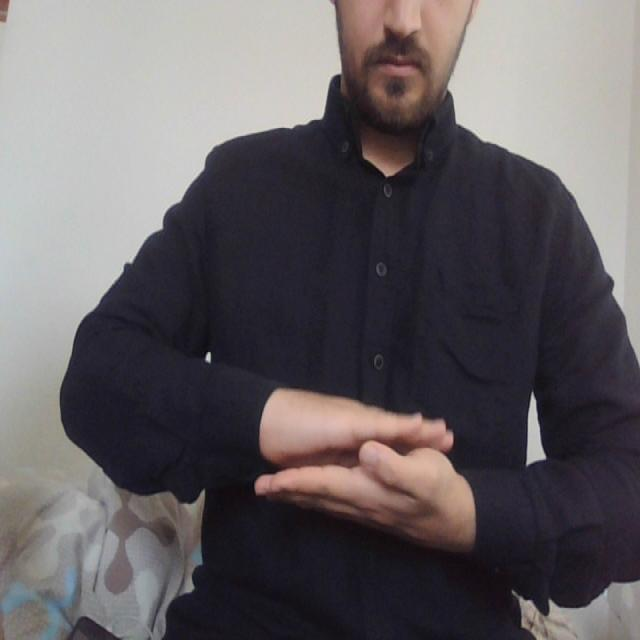Arkadas: (200, 374, 537, 577)
